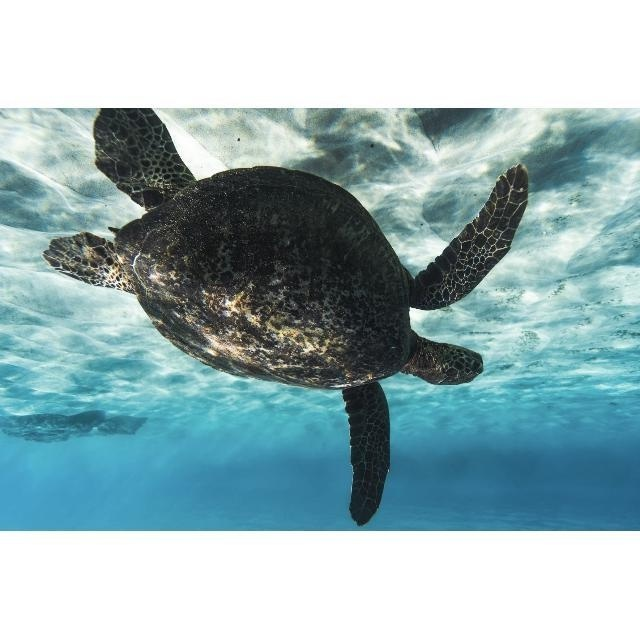turtle: (43, 109, 533, 527)
